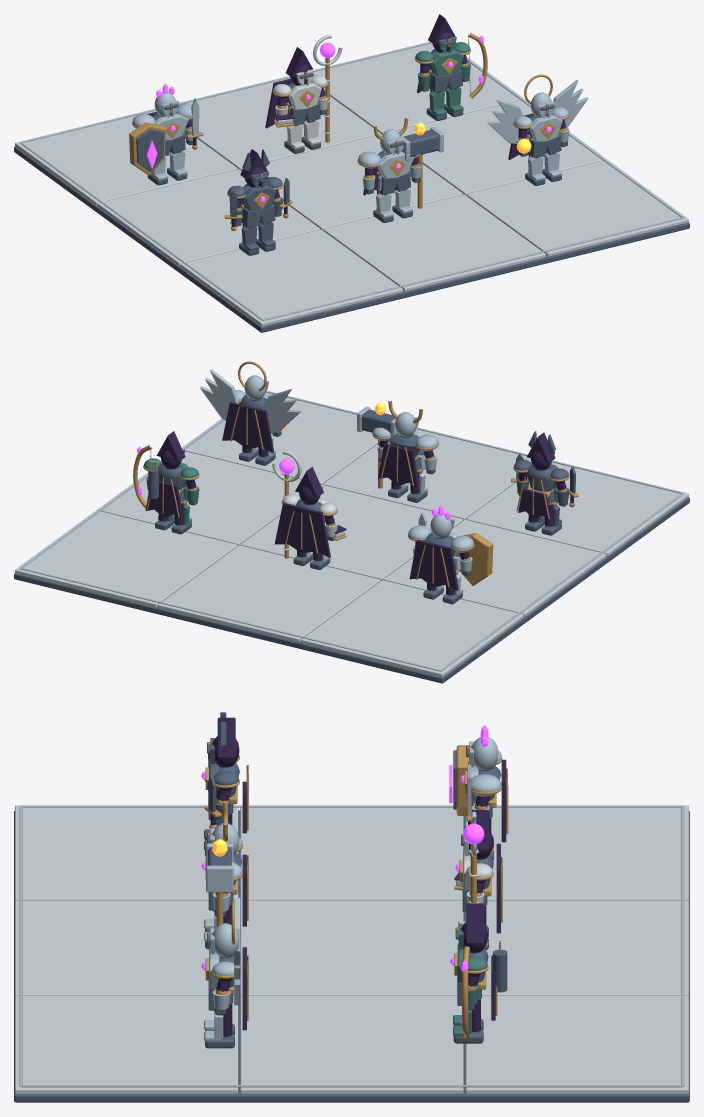
Rendered from moonsteel-convergence-champion-lineup-f1f6ff39__18223.glb.
The picture shows the model from 3 angles, top to bottom: view 1: azimuth 30°, elevation 25°; view 2: azimuth 150°, elevation 25°; view 3: azimuth 270°, elevation 25°; orthographic projection. The views are drawn at different scales.
Visible parts, largest first — view 1: 000-sanctuary-terrace/1, 000-sanctuary-terrace/0, 006-seraph-mender/1, 000-sanctuary-terrace/2, 004-veil-duelist/0, 005-dawn-breaker/1, 002-crescent-seer/1, 001-aegis-marshal/1, 003-vesper-huntress/1, 005-dawn-breaker/0, 001-aegis-marshal/0, 002-crescent-seer/2 (+10 smaller); view 2: 000-sanctuary-terrace/1, 000-sanctuary-terrace/0, 000-sanctuary-terrace/2, 002-crescent-seer/2, 006-seraph-mender/1, 004-veil-duelist/0, 001-aegis-marshal/2, 006-seraph-mender/2, 003-vesper-huntress/2, 004-veil-duelist/1, 005-dawn-breaker/1, 001-aegis-marshal/1 (+13 smaller); view 3: 000-sanctuary-terrace/1, 000-sanctuary-terrace/0, 000-sanctuary-terrace/2, 006-seraph-mender/1, 005-dawn-breaker/1, 003-vesper-huntress/2, 001-aegis-marshal/1, 004-veil-duelist/0, 004-veil-duelist/1, 003-vesper-huntress/0, 001-aegis-marshal/3, 002-crescent-seer/2 (+11 smaller).
Part boxes in pixels (x1,y1,x2,y2): 000-sanctuary-terrace/1: [15, 41, 688, 326]; 000-sanctuary-terrace/0: [14, 146, 689, 332]; 006-seraph-mender/1: [486, 80, 588, 181]; 000-sanctuary-terrace/2: [20, 42, 683, 320]; 004-veil-duelist/0: [228, 149, 289, 255]; 005-dawn-breaker/1: [358, 127, 443, 218]; 002-crescent-seer/1: [273, 34, 342, 149]; 001-aegis-marshal/1: [132, 92, 199, 180]; 003-vesper-huntress/1: [415, 36, 470, 116]; 005-dawn-breaker/0: [364, 130, 438, 222]; 001-aegis-marshal/0: [136, 104, 192, 185]; 002-crescent-seer/2: [265, 47, 325, 139]; 000-sanctuary-terrace/1: [15, 390, 688, 677]; 000-sanctuary-terrace/0: [14, 497, 689, 683]; 000-sanctuary-terrace/2: [20, 391, 683, 671]; 002-crescent-seer/2: [274, 466, 346, 560]; 006-seraph-mender/1: [199, 369, 301, 456]; 004-veil-duelist/0: [514, 431, 575, 535]; 001-aegis-marshal/2: [409, 537, 469, 595]; 006-seraph-mender/2: [222, 399, 273, 456]; 003-vesper-huntress/2: [145, 431, 196, 525]; 004-veil-duelist/1: [518, 432, 573, 526]; 005-dawn-breaker/1: [357, 406, 438, 493]; 001-aegis-marshal/1: [408, 512, 474, 595]; 000-sanctuary-terrace/1: [15, 805, 688, 1094]; 000-sanctuary-terrace/0: [14, 810, 689, 1102]; 000-sanctuary-terrace/2: [19, 805, 684, 1087]; 006-seraph-mender/1: [204, 897, 240, 1041]; 005-dawn-breaker/1: [204, 823, 242, 941]; 003-vesper-huntress/2: [461, 903, 495, 1032]; 001-aegis-marshal/1: [463, 737, 501, 849]; 004-veil-duelist/0: [204, 712, 239, 856]; 004-veil-duelist/1: [210, 717, 246, 833]; 003-vesper-huntress/0: [453, 927, 507, 1043]; 001-aegis-marshal/3: [456, 745, 508, 833]; 002-crescent-seer/2: [454, 810, 500, 933].
Bounding box in the file's own units: 12 × 3.14 × 12.
